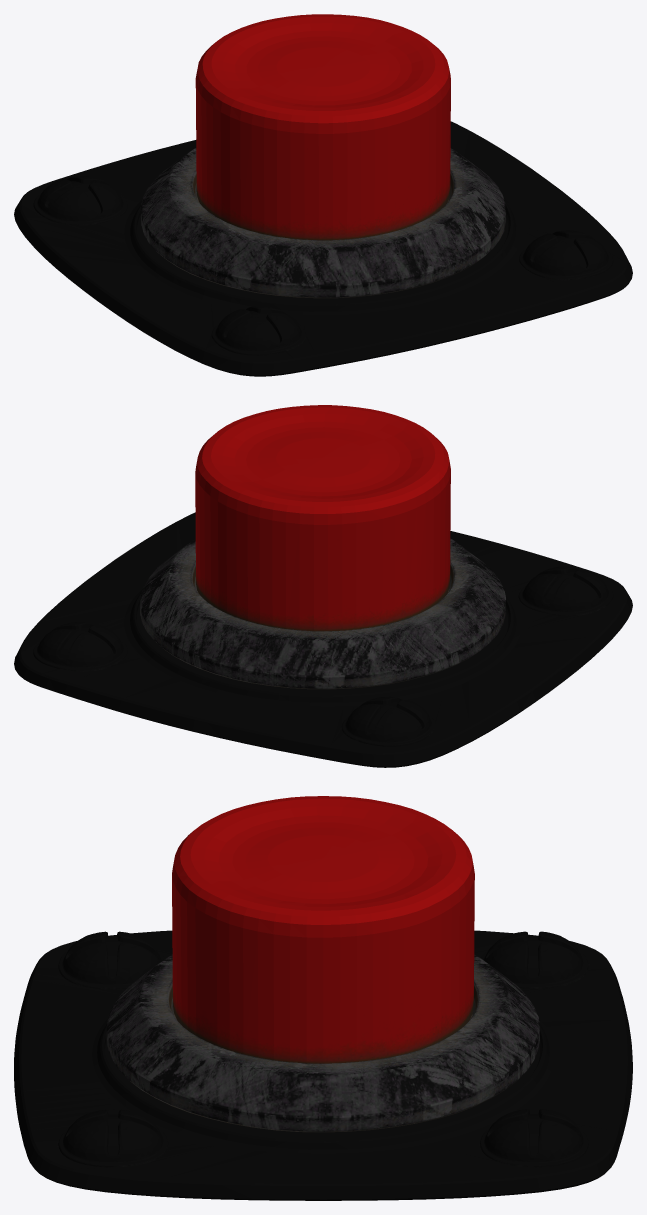
The model's file is SCP001J.fbx.
3 renders of one model, top to bottom at view 1: azimuth 30°, elevation 25°; view 2: azimuth 150°, elevation 25°; view 3: azimuth 270°, elevation 25°, orthographic. The views are drawn at different scales.
Visible parts, largest first — view 1: node_id7 (×3); view 2: node_id7 (×3); view 3: node_id7 (×3).
Part boxes in pixels (box(x1,y1,x2,y2)): node_id7 (×3): box(14, 14, 632, 376); node_id7 (×3): box(14, 405, 632, 767); node_id7 (×3): box(14, 796, 632, 1200).
Size of the model in its own units: 0.512 by 0.1954 by 0.509.
Materials: 3 (3 with a texture image).
